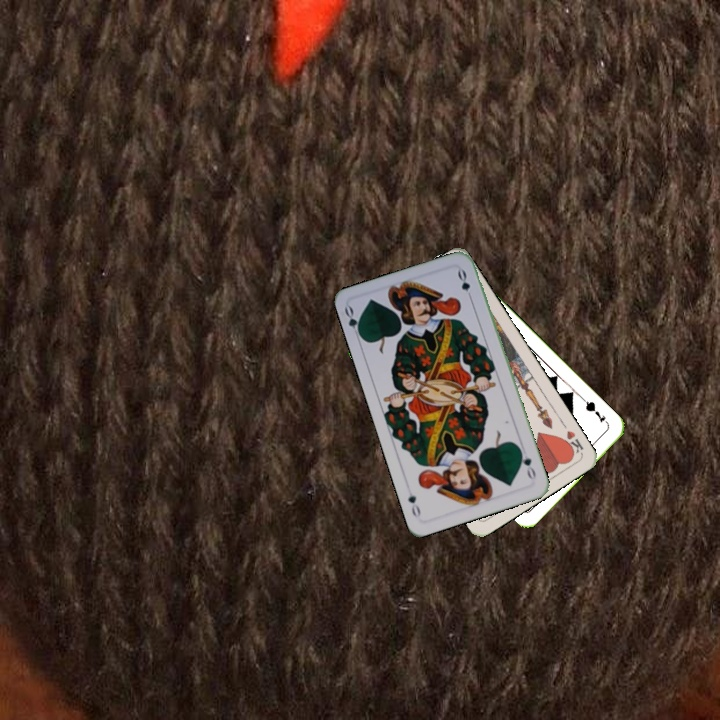G7: (579, 396, 608, 425)
GO: (340, 302, 365, 342), (516, 445, 538, 483)
HK: (558, 419, 586, 458)
